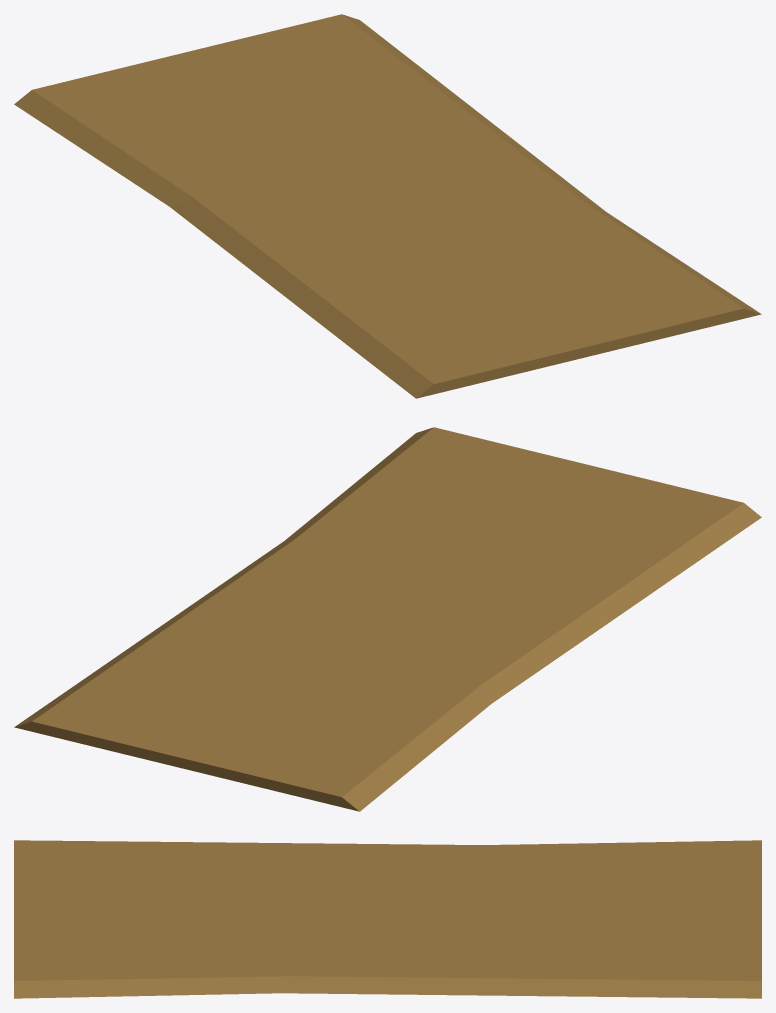
Rendered from Road.fbx.
The picture shows the model from 3 angles, top to bottom: view 1: azimuth 30°, elevation 25°; view 2: azimuth 150°, elevation 25°; view 3: azimuth 270°, elevation 25°; orthographic projection. The views are drawn at different scales.
Parts seen in each view (by area): view 1: Road; view 2: Road; view 3: Road.
Boxes of the visible parts, left/top/right/bottom form: Road: left=14, top=14, right=761, bottom=398; Road: left=14, top=427, right=761, bottom=811; Road: left=14, top=840, right=761, bottom=998.
Bounding box in the file's own units: 1008 × 28.4 × 2030.
